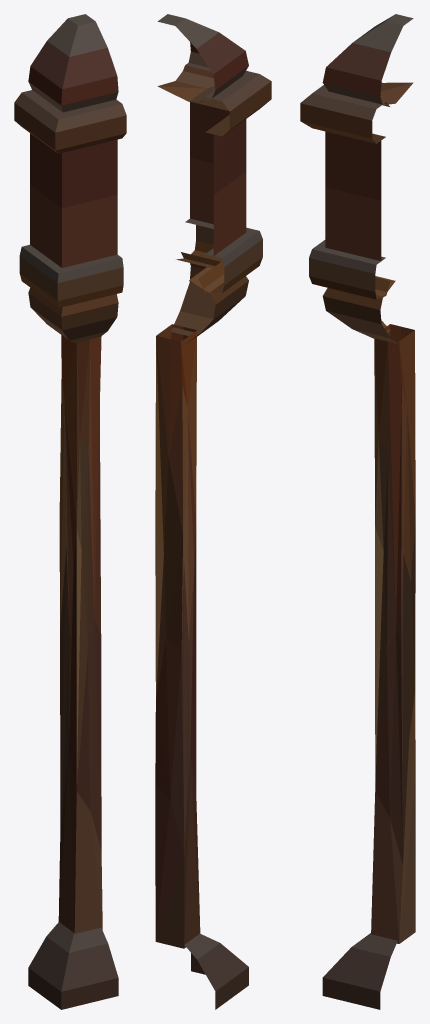
File: Wall_HomeA-CornerOuterD.fbx
3 renders of one model, left to right at view 1: azimuth 30°, elevation 25°; view 2: azimuth 150°, elevation 25°; view 3: azimuth 330°, elevation 25°, orthographic.
Visible parts, largest first — view 1: Wall_HomeA-CornerOuterD; view 2: Wall_HomeA-CornerOuterD; view 3: Wall_HomeA-CornerOuterD.
Part boxes in pixels (x1=…): Wall_HomeA-CornerOuterD: x1=14, y1=14, x2=126, y2=1009; Wall_HomeA-CornerOuterD: x1=155, y1=14, x2=271, y2=1009; Wall_HomeA-CornerOuterD: x1=300, y1=14, x2=415, y2=1009.
Size of the model in its own units: 32.31 by 400 by 32.34.
